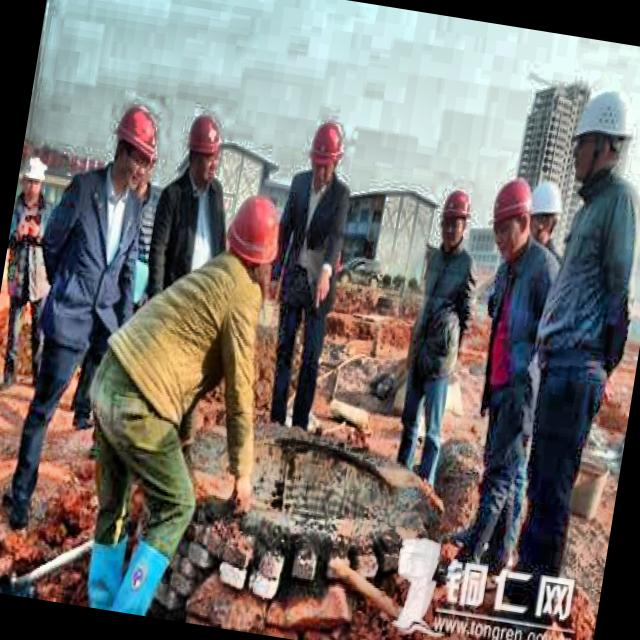helmet: (563, 78, 640, 191), (214, 190, 288, 299), (106, 98, 164, 199), (482, 173, 542, 267), (181, 111, 228, 188), (522, 178, 568, 255), (433, 182, 478, 259), (304, 116, 348, 194), (15, 144, 50, 211)
